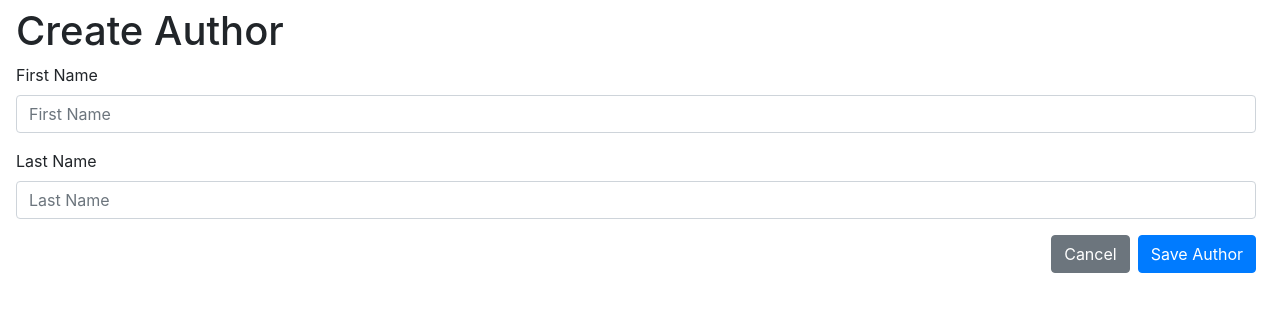
Test: AuthorCreate › should handle field validation errors
# Click the save button without entering any values
What coordinates should you click on to do the following:
click the button "Save Author"
I would click on:
 (1197, 254)
Its box is [1138,235,1256,273].
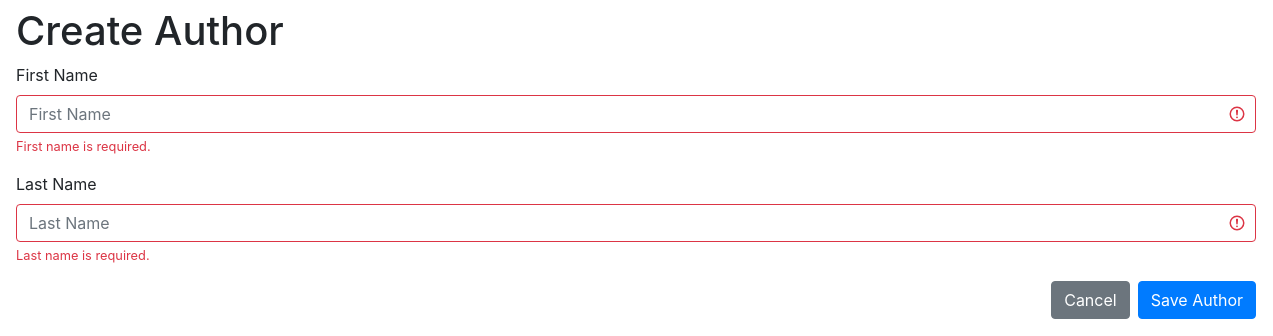
expect the text "First name is required." is shown: met, box [16,139,151,154]
expect the text "Last name is required." is shown: met, box [16,248,150,263]
